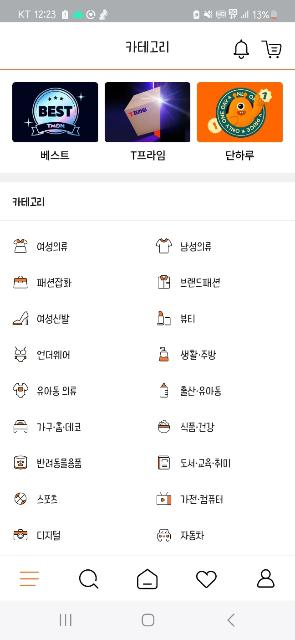Bottom_Navigation: (0, 558, 295, 602)
Icon: (137, 568, 159, 590), (19, 570, 39, 590), (80, 569, 100, 589), (196, 570, 218, 588), (262, 40, 282, 59), (233, 39, 249, 61), (258, 568, 274, 588), (156, 238, 172, 254), (12, 382, 28, 398), (14, 346, 28, 364), (12, 275, 28, 289), (156, 491, 172, 505), (158, 310, 171, 326), (14, 239, 28, 253), (14, 311, 28, 325), (158, 275, 171, 289), (14, 420, 28, 432), (14, 492, 28, 504), (158, 421, 170, 434), (15, 456, 27, 468), (159, 456, 171, 468), (14, 528, 26, 540), (158, 529, 170, 541), (159, 347, 169, 361), (160, 384, 168, 398)
Image: (198, 81, 284, 142), (13, 81, 97, 142), (105, 84, 191, 142)
Text: (182, 492, 224, 506), (126, 40, 168, 54), (180, 458, 232, 468), (36, 458, 82, 468), (39, 422, 81, 432), (180, 386, 222, 396), (36, 385, 76, 395), (36, 240, 68, 252), (181, 278, 219, 288), (180, 350, 216, 360), (36, 278, 72, 288), (14, 196, 44, 208), (38, 348, 70, 359), (180, 422, 215, 432), (36, 314, 70, 324), (132, 150, 166, 160), (227, 150, 255, 162), (181, 242, 211, 252), (37, 530, 61, 540), (181, 531, 205, 541), (40, 151, 70, 159), (36, 495, 56, 505), (180, 312, 196, 324)
TextImageButton: (158, 454, 232, 470), (159, 345, 216, 363), (158, 274, 220, 290), (160, 382, 222, 398), (156, 491, 224, 505), (14, 455, 81, 469), (12, 347, 70, 363), (155, 238, 211, 254), (12, 384, 76, 398), (14, 238, 68, 254), (12, 275, 72, 289), (13, 420, 81, 432), (12, 311, 70, 325), (158, 308, 196, 326), (159, 420, 215, 432), (14, 491, 58, 505), (14, 528, 60, 540), (158, 530, 204, 542)
